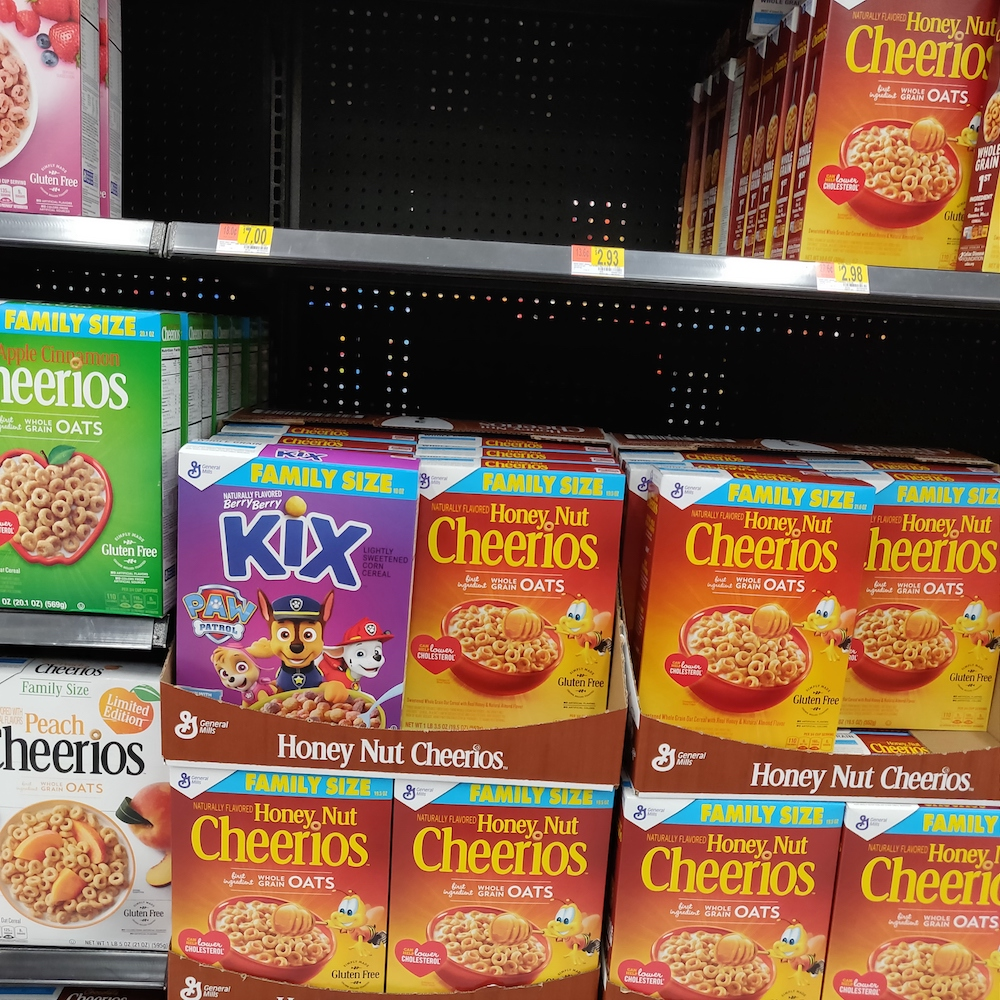Kix Berry -568919964: (173, 454, 405, 730)
